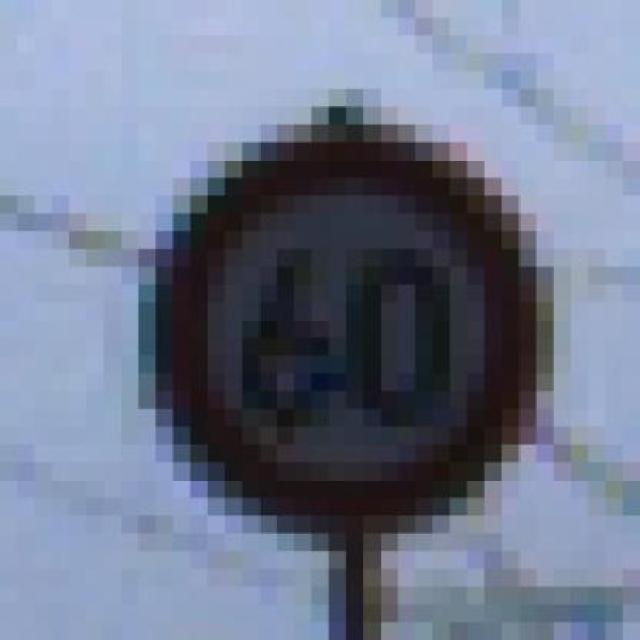forb_speed_over_60: (158, 136, 541, 522)
